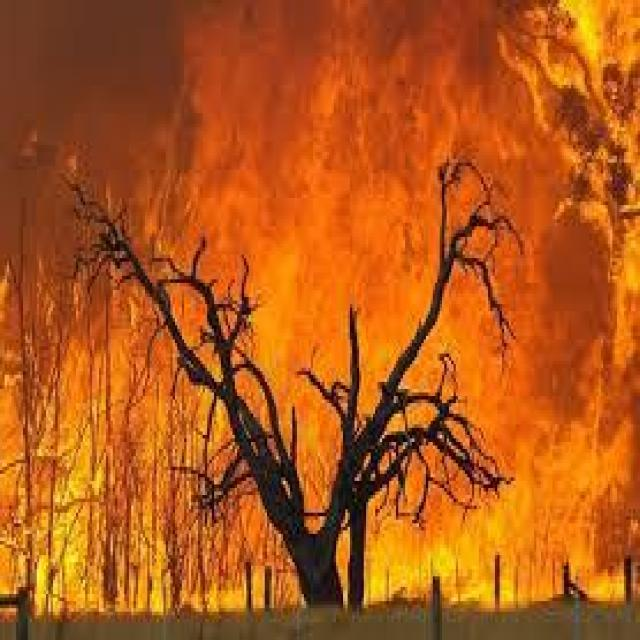fire: (452, 18, 640, 602), (0, 241, 283, 611), (277, 42, 424, 347)
